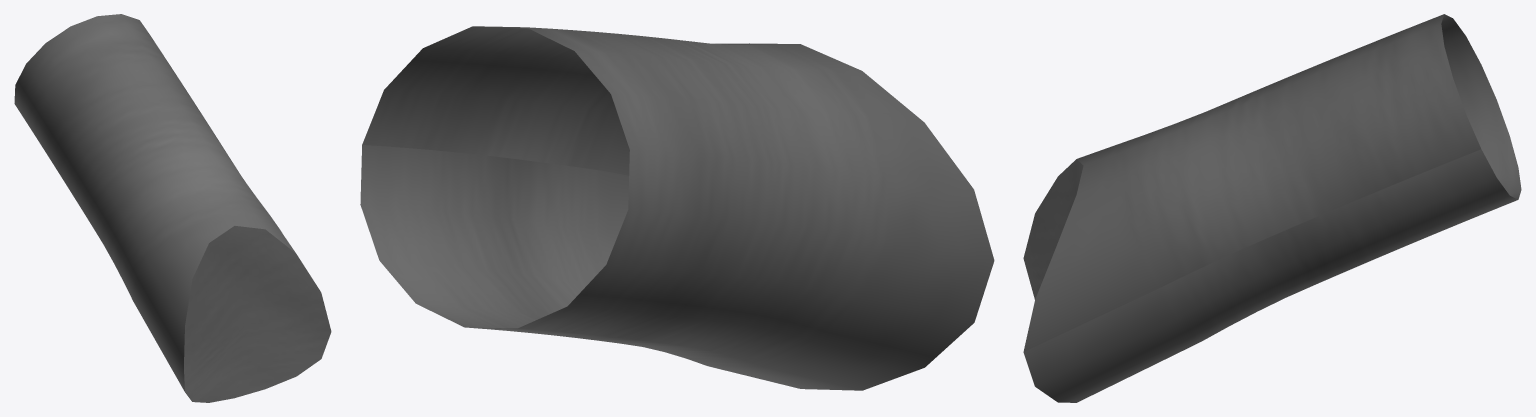
Rendered from mastarmcurve_8x2_c0.obj.
3 views of the same model, side by side, from view 1: azimuth 30°, elevation 25°; view 2: azimuth 150°, elevation 25°; view 3: azimuth 270°, elevation 25° (orthographic). The views are drawn at different scales.
Parts seen in each view (by area): view 1: mastarm_8x2_c0; view 2: mastarm_8x2_c0; view 3: mastarm_8x2_c0.
Part boxes in pixels (bbox=[...]): mastarm_8x2_c0: bbox=[14, 14, 331, 402]; mastarm_8x2_c0: bbox=[360, 26, 994, 390]; mastarm_8x2_c0: bbox=[1023, 14, 1521, 402].
Size of the model in its own units: 0.6278 by 1.14 by 1.41.
